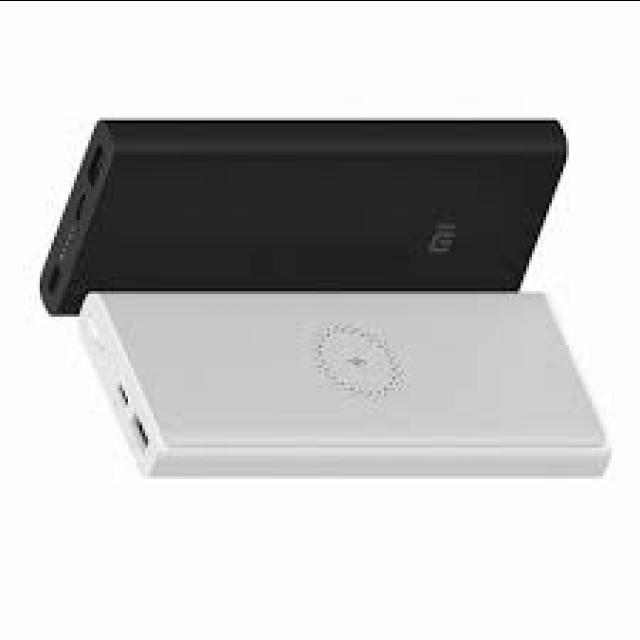portable-charger: (36, 111, 570, 322), (76, 290, 610, 476)
